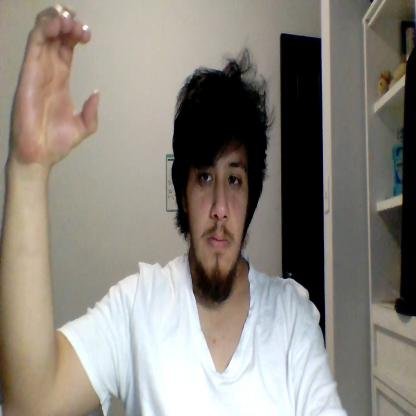C: (10, 3, 99, 167)
